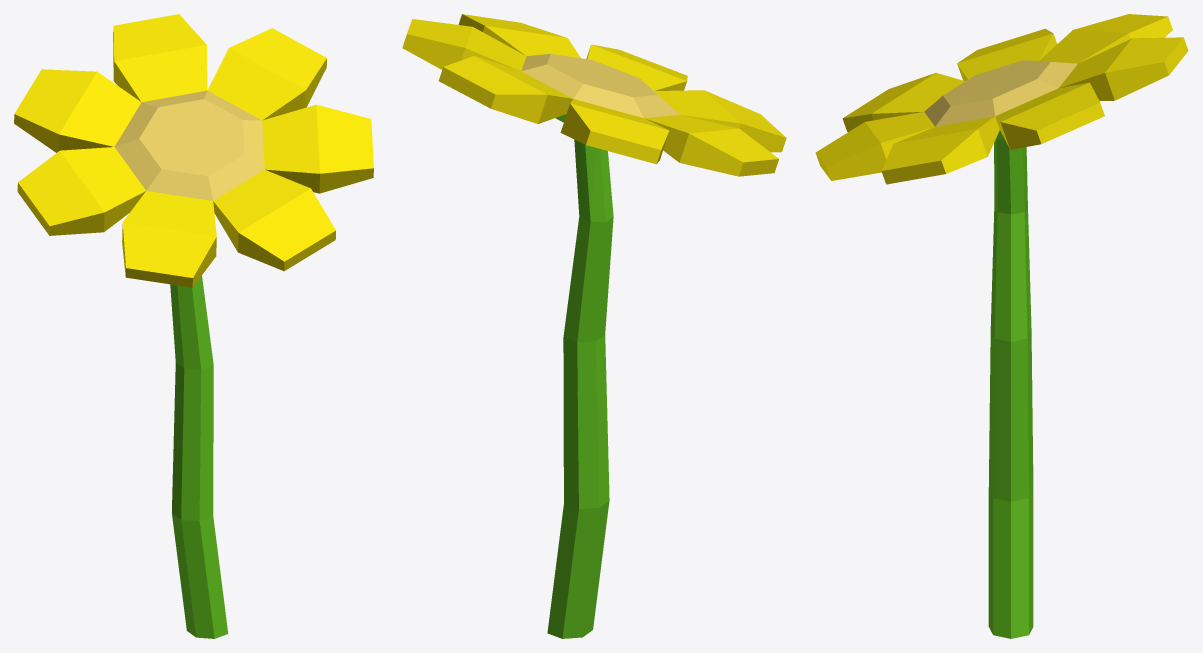
Rendered from flower1.fbx.
3 renders of one model, left to right at view 1: azimuth 30°, elevation 25°; view 2: azimuth 150°, elevation 25°; view 3: azimuth 270°, elevation 25°, orthographic. The views are drawn at different scales.
Parts seen in each view (by area): view 1: Vegetation_Verdant_Plant_Flower_01, Vegetation_Verdant_Plant_Flower_01.001, Vegetation_Verdant_Plant_Flower_01.002; view 2: Vegetation_Verdant_Plant_Flower_01, Vegetation_Verdant_Plant_Flower_01.001, Vegetation_Verdant_Plant_Flower_01.002; view 3: Vegetation_Verdant_Plant_Flower_01, Vegetation_Verdant_Plant_Flower_01.001, Vegetation_Verdant_Plant_Flower_01.002.
Boxes of the visible parts, x1,y1,x2,y2 form: Vegetation_Verdant_Plant_Flower_01: [14, 14, 373, 287]; Vegetation_Verdant_Plant_Flower_01.001: [170, 276, 228, 638]; Vegetation_Verdant_Plant_Flower_01.002: [114, 90, 264, 200]; Vegetation_Verdant_Plant_Flower_01: [402, 14, 786, 176]; Vegetation_Verdant_Plant_Flower_01.001: [547, 114, 613, 638]; Vegetation_Verdant_Plant_Flower_01.002: [521, 54, 679, 118]; Vegetation_Verdant_Plant_Flower_01: [815, 14, 1188, 184]; Vegetation_Verdant_Plant_Flower_01.001: [988, 130, 1033, 638]; Vegetation_Verdant_Plant_Flower_01.002: [924, 60, 1077, 126].
Size of the model in its own units: 39.28 by 67.62 by 38.77.
